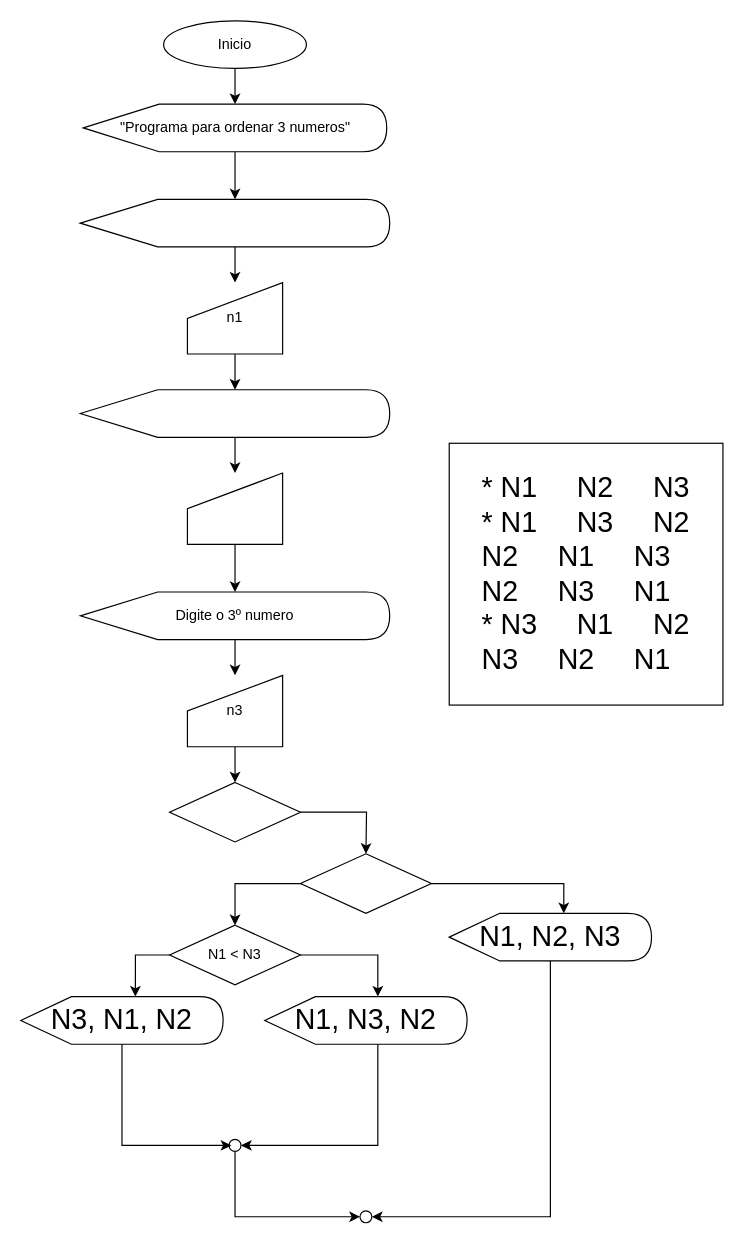
Image size: 744x1247. Some labels were removed from this diagram. Each missing label, with the centre of its shape:
"Digite o 1º numero" belongs at (x=234, y=222).
"Digite o 2º numero" belongs at (x=234, y=413).
"N1 < N2" belongs at (x=234, y=811).
"n2" belongs at (x=234, y=508).
"N2 < N3" belongs at (x=365, y=883).
